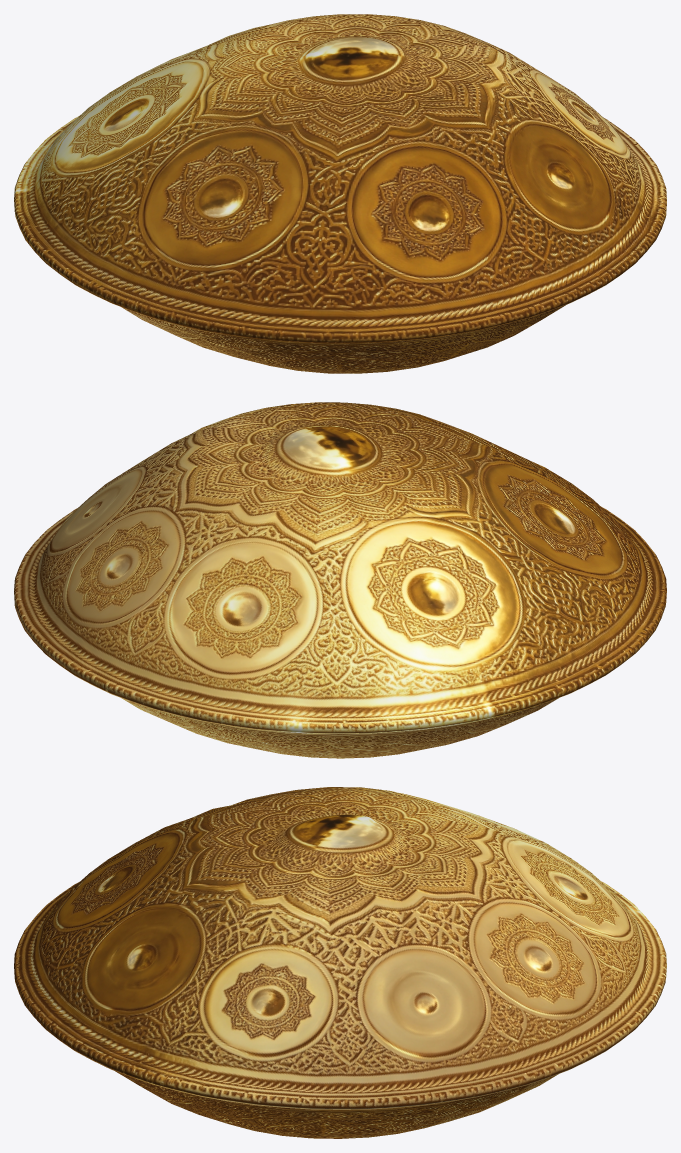
3 renders of one model, top to bottom at view 1: azimuth 30°, elevation 25°; view 2: azimuth 150°, elevation 25°; view 3: azimuth 270°, elevation 25°, orthographic.
Visible parts, largest first — view 1: g; view 2: g; view 3: g.
Boxes of the visible parts, box(x1,y1,x2,y2) form: g: box(14, 14, 666, 373); g: box(14, 402, 666, 758); g: box(14, 787, 666, 1138).
Bounding box in the file's own units: 2 × 0.9154 × 2.
1 material, 1 textured.
